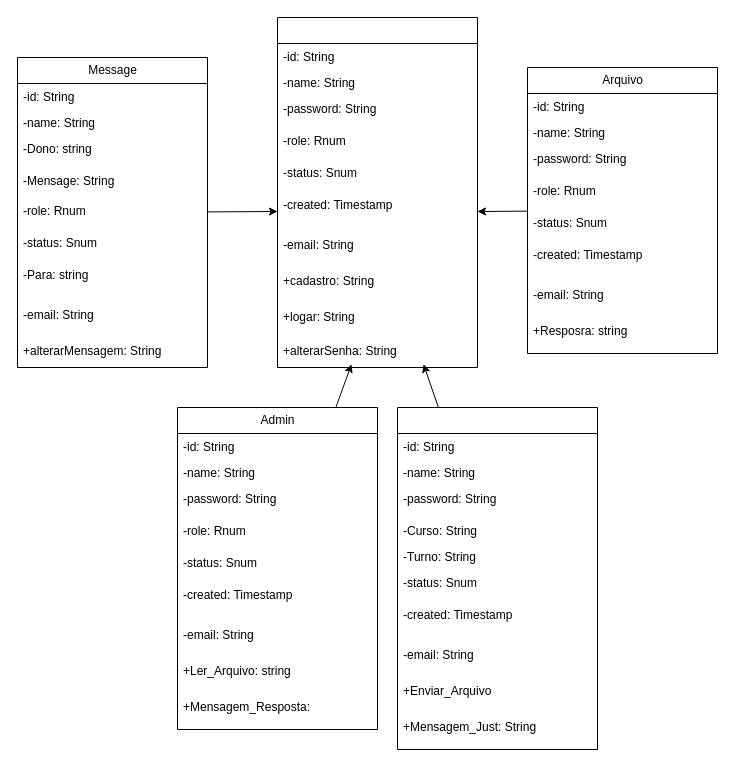
This 735x770 diagram has some shape labels left out. Here are the shapes that lost their labels. From the top down, the box of each, then its label:
(276, 16, 478, 368): User
(396, 406, 598, 750): Aluno
